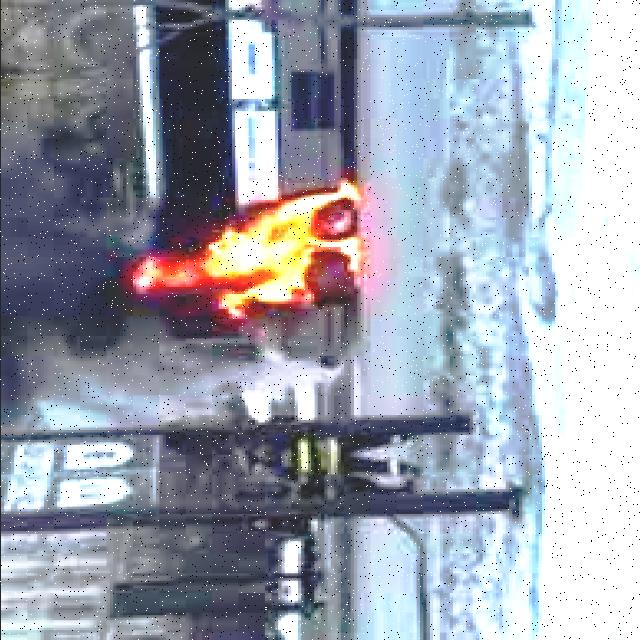api: (130, 174, 358, 337)
